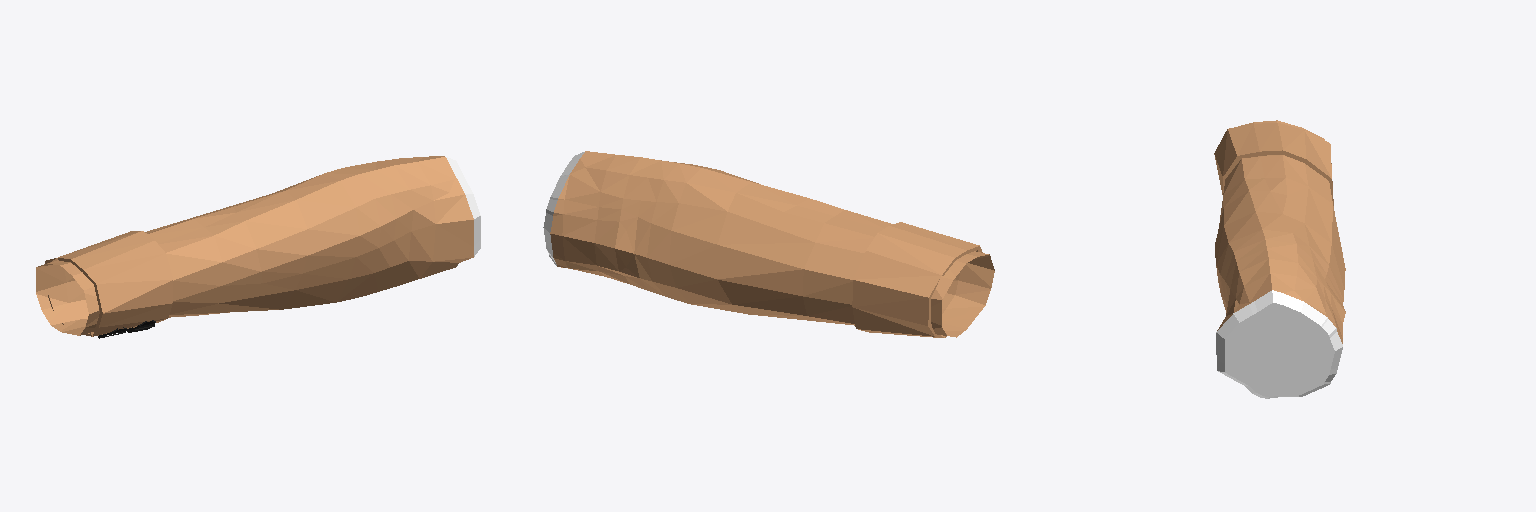
The model's file is leftarm2.obj.
The picture shows the model from 3 angles: view 1: azimuth 30°, elevation 25°; view 2: azimuth 150°, elevation 25°; view 3: azimuth 270°, elevation 25°; orthographic projection.
Visible parts, largest first — view 1: Mesh1 Model, Mesh2 Model; view 2: Mesh1 Model, Mesh2 Model; view 3: Mesh1 Model, Mesh2 Model.
Boxes of the visible parts, <box> form: Mesh1 Model: <box>36,156,480,335</box>; Mesh2 Model: <box>45,231,172,336</box>; Mesh1 Model: <box>543,151,994,337</box>; Mesh2 Model: <box>852,222,982,337</box>; Mesh1 Model: <box>1215,120,1345,398</box>; Mesh2 Model: <box>1214,123,1333,205</box>.
Bounding box in the file's own units: 9.03 × 2.8 × 2.61.